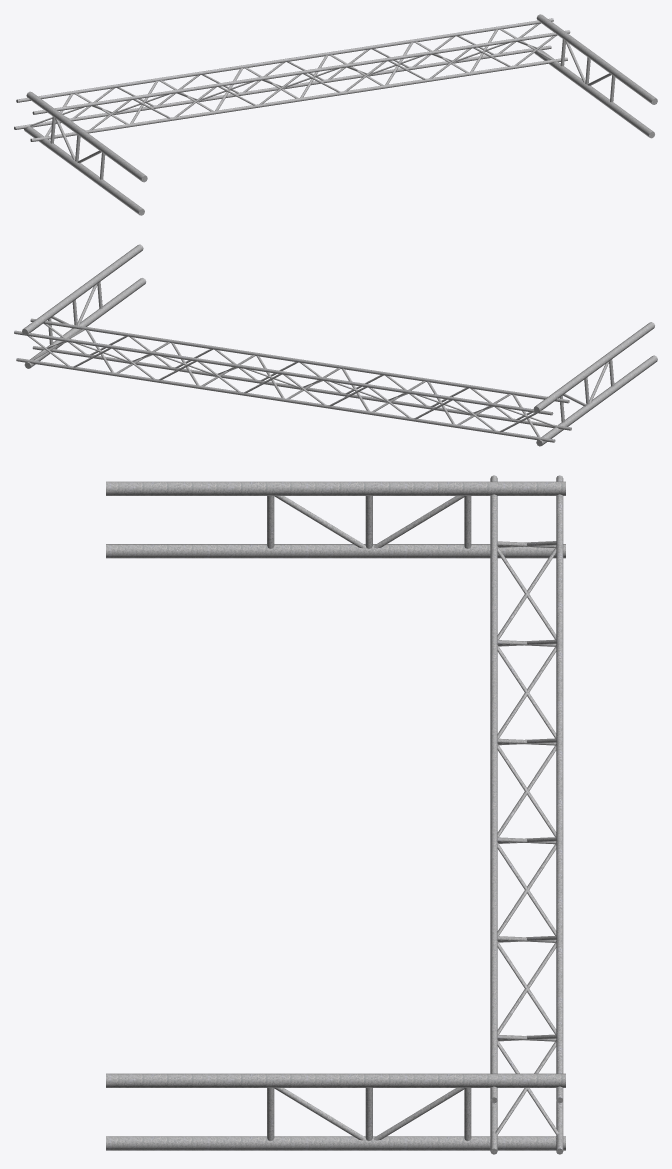
The model's file is _1BRIDGE_AD01_UBS_SUB0_Scene.218.obj.
The picture shows the model from 3 angles, top to bottom: view 1: azimuth 30°, elevation 25°; view 2: azimuth 150°, elevation 25°; view 3: azimuth 270°, elevation 25°; orthographic projection. The views are drawn at different scales.
Parts seen in each view (by area): view 1: _1BRIDGE_AD01_UBS_SUB0_Scene.218; view 2: _1BRIDGE_AD01_UBS_SUB0_Scene.218; view 3: _1BRIDGE_AD01_UBS_SUB0_Scene.218.
Part boxes in pixels (left/top/right/bottom): _1BRIDGE_AD01_UBS_SUB0_Scene.218: left=14, top=14, right=657, bottom=215; _1BRIDGE_AD01_UBS_SUB0_Scene.218: left=14, top=244, right=657, bottom=446; _1BRIDGE_AD01_UBS_SUB0_Scene.218: left=106, top=475, right=565, bottom=1154.
Size of the model in its own units: 18.92 by 2.9 by 7.
